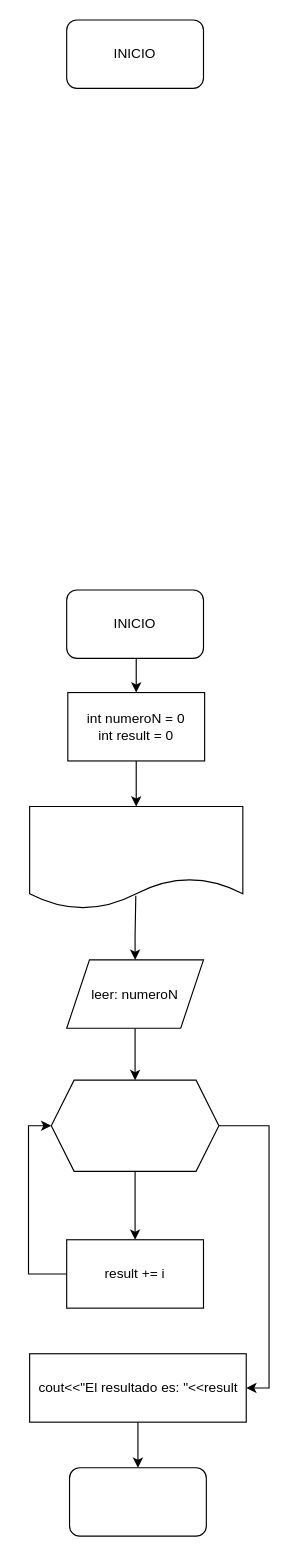
Some shapes in this 298 by 1556 pixel diagram are drawn without their labels. The shapes that lost their labels are listed below. From the top down, each one's box as (x1, y1, x2, y2) in pixels, then its label:
(28, 805, 243, 909): Bienvenido al programa que calcula la suma de N numeros, Ingrese un numero:
(50, 1079, 219, 1171): Desde i = 1 Hasta i <= numeroN Incremento 1
(68, 1467, 206, 1536): FIN
